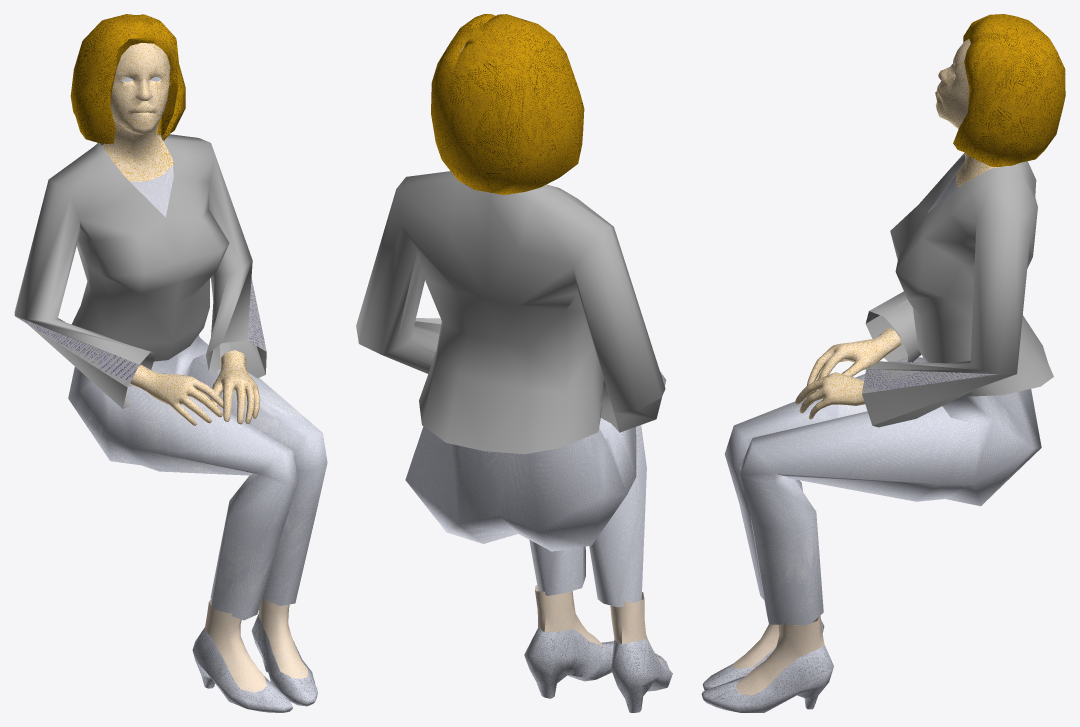
Rendered from woman1.gltf.
The picture shows the model from 3 angles, left to right: view 1: azimuth 30°, elevation 25°; view 2: azimuth 150°, elevation 25°; view 3: azimuth 270°, elevation 25°; orthographic projection. The views are drawn at different scales.
Parts seen in each view (by area): view 1: group_0.002, group_3, group_7, group_6.001, group_2, group_6.002, group_1, group_6, group_1.001, group_2.001, group_0, group_5 (+1 smaller); view 2: group_0.002, group_3, group_7, group_2.001, group_2, group_1.001, group_1; view 3: group_3, group_0.002, group_7, group_2.001, group_1.001, group_6.001, group_6.002, group_6, group_0.001, group_1, group_2.
Boxes of the visible parts, bbox=[...] form: group_0.002: bbox=[14, 134, 266, 408]; group_3: bbox=[68, 335, 327, 620]; group_7: bbox=[70, 14, 185, 143]; group_6.001: bbox=[102, 43, 173, 182]; group_2: bbox=[192, 627, 292, 712]; group_6.002: bbox=[130, 365, 223, 425]; group_1: bbox=[205, 598, 266, 692]; group_6: bbox=[210, 350, 260, 424]; group_1.001: bbox=[258, 599, 307, 678]; group_2.001: bbox=[251, 614, 317, 706]; group_0: bbox=[16, 316, 139, 387]; group_5: bbox=[129, 165, 173, 217]; group_0.002: bbox=[356, 171, 665, 454]; group_3: bbox=[405, 418, 646, 607]; group_7: bbox=[431, 14, 584, 194]; group_2.001: bbox=[524, 628, 613, 698]; group_2: bbox=[611, 639, 672, 712]; group_1.001: bbox=[535, 585, 603, 646]; group_1: bbox=[610, 592, 663, 662]; group_3: bbox=[724, 357, 1041, 625]; group_0.002: bbox=[862, 153, 1053, 427]; group_7: bbox=[953, 14, 1065, 166]; group_2.001: bbox=[701, 645, 833, 712]; group_1.001: bbox=[736, 613, 824, 695]; group_6.001: bbox=[935, 39, 999, 187]; group_6.002: bbox=[807, 327, 901, 385]; group_6: bbox=[795, 372, 864, 419]; group_0.001: bbox=[862, 369, 997, 393]; group_1: bbox=[733, 624, 779, 668]; group_2: bbox=[702, 620, 824, 690].
Size of the model in its own units: 22.36 by 54.78 by 27.37.
Materials: 9 (2 with a texture image).
